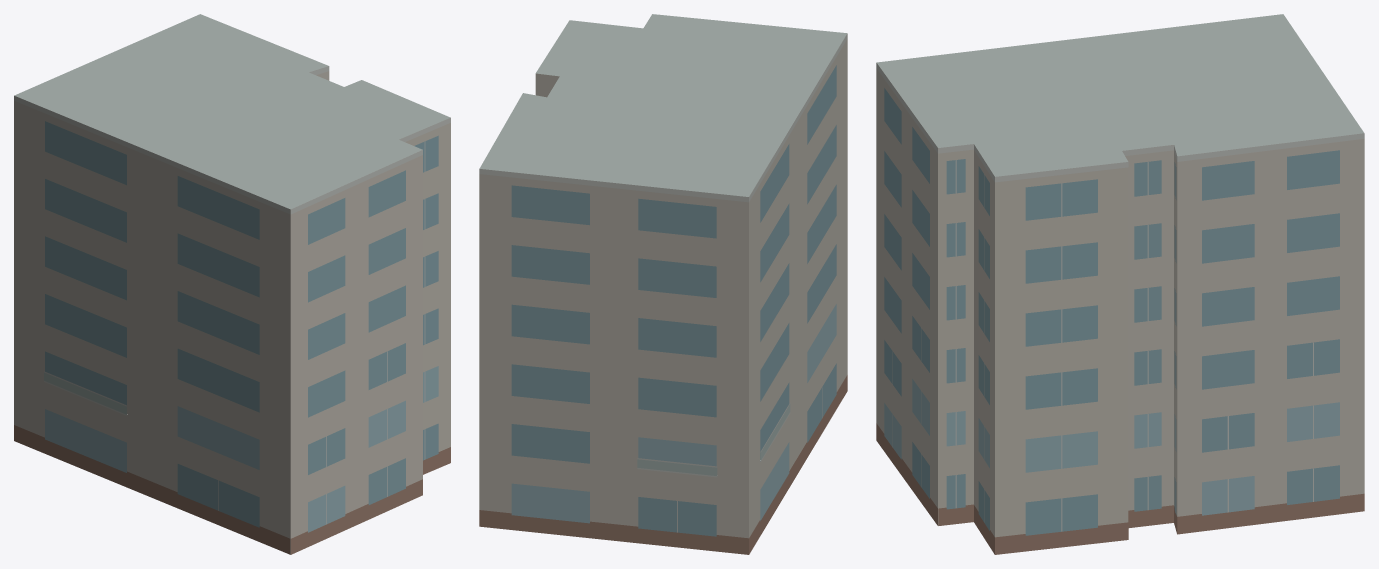
File: survey-upis-32571099.glb
The picture shows the model from 3 angles, left to right: view 1: azimuth 30°, elevation 25°; view 2: azimuth 150°, elevation 25°; view 3: azimuth 270°, elevation 25°; orthographic projection. The views are drawn at different scales.
Visible parts, largest first — view 1: survey-upis-32571099.tmp; view 2: survey-upis-32571099.tmp; view 3: survey-upis-32571099.tmp.
Boxes of the visible parts, bbox=[...] form: survey-upis-32571099.tmp: bbox=[14, 14, 450, 554]; survey-upis-32571099.tmp: bbox=[479, 14, 847, 554]; survey-upis-32571099.tmp: bbox=[876, 14, 1364, 554].
Size of the model in its own units: 15.35 by 16.6 by 19.43.
